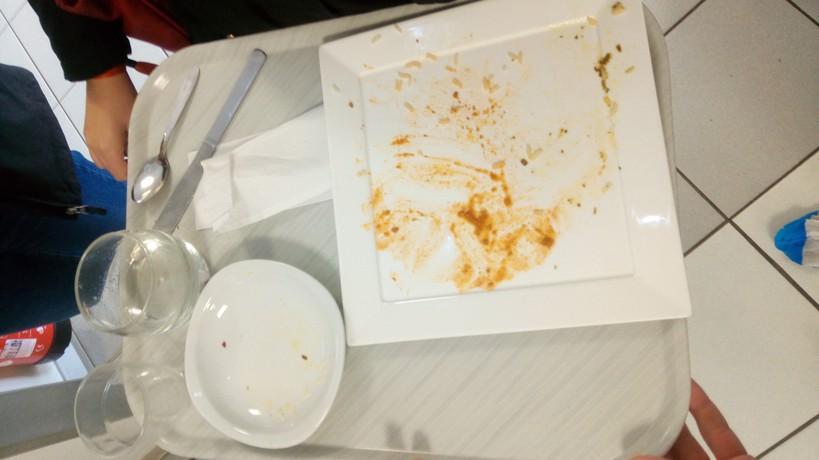cup: (63, 366, 186, 460)
cutlery: (148, 43, 270, 265), (122, 60, 211, 201)
trash: (183, 108, 346, 221)
